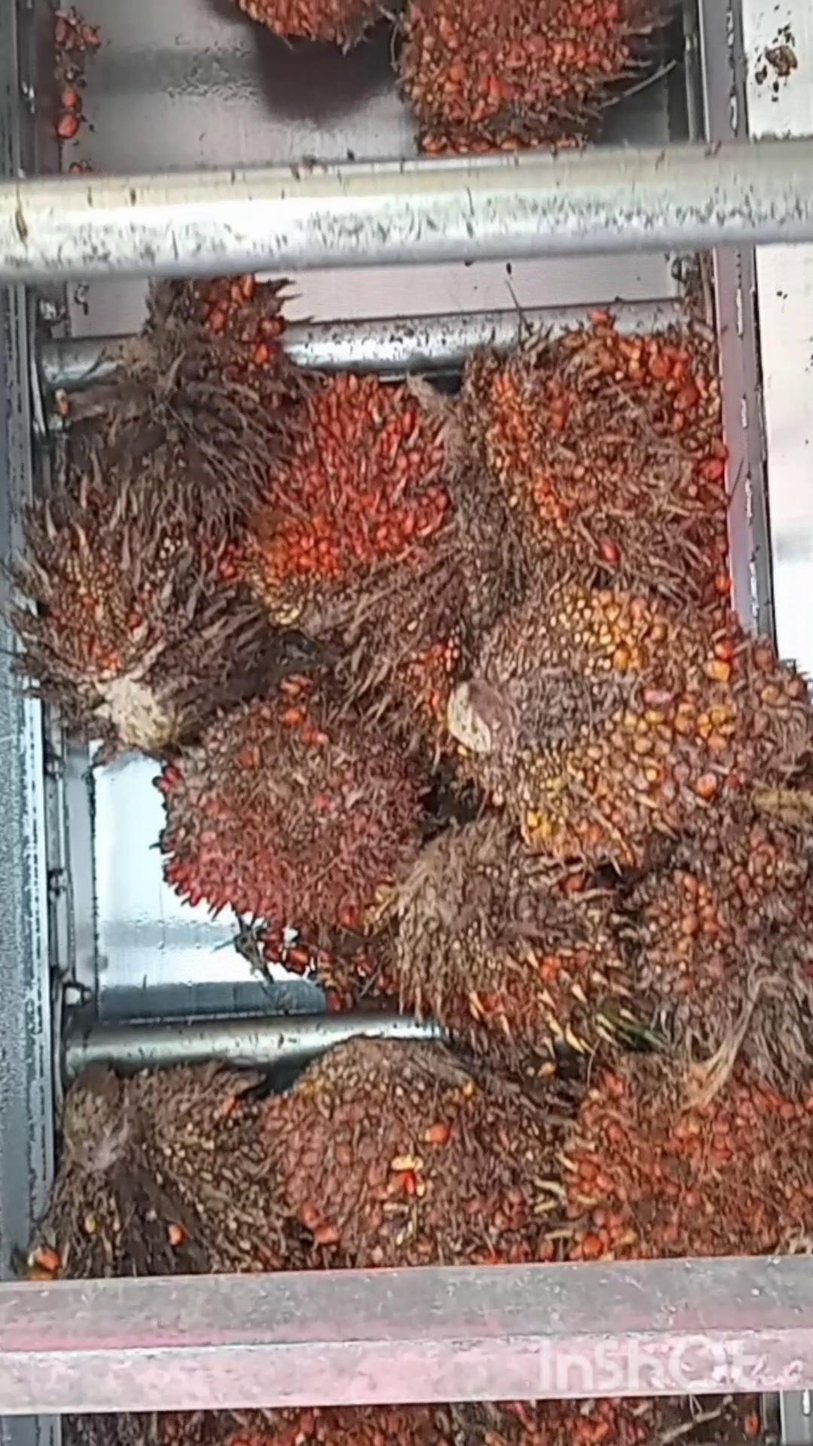Madurado: (445, 572, 813, 854), (164, 685, 411, 949), (264, 1030, 535, 1260), (271, 357, 479, 621), (374, 815, 621, 1032)
Podrido: (628, 766, 813, 1106), (59, 269, 284, 531), (20, 531, 262, 751)
